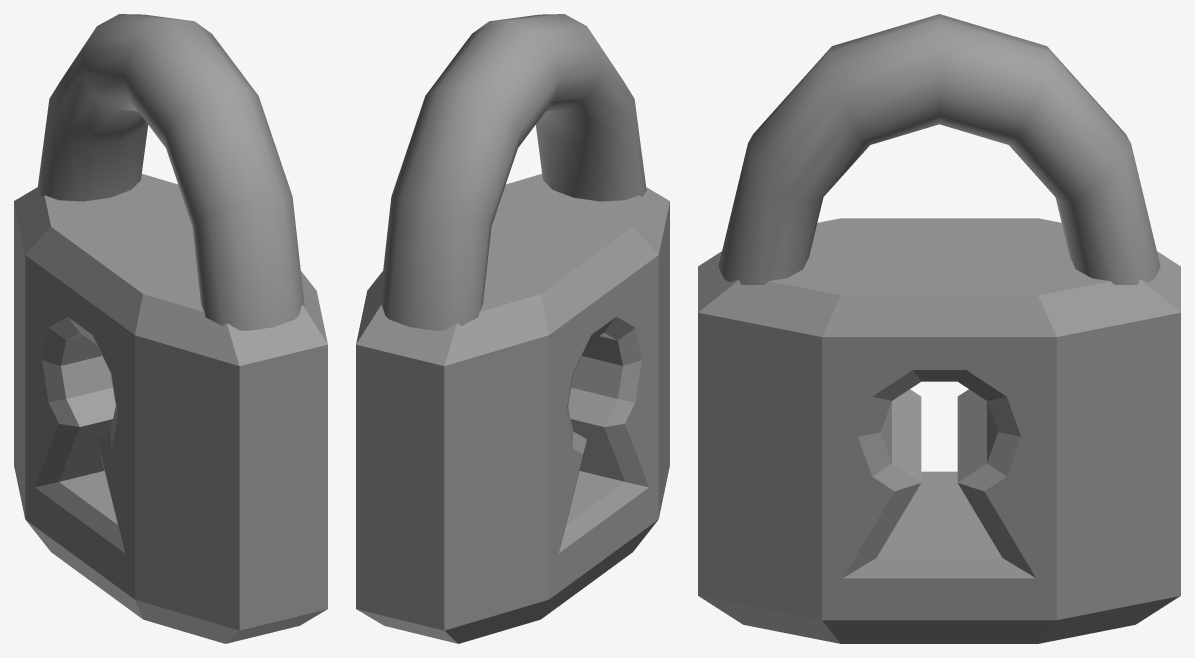
File: Lock.fbx
3 views of the same model, side by side, from view 1: azimuth 30°, elevation 25°; view 2: azimuth 150°, elevation 25°; view 3: azimuth 270°, elevation 25° (orthographic). The views are drawn at different scales.
Visible parts, largest first — view 1: Cube; view 2: Cube; view 3: Cube.
Boxes of the visible parts, x1,y1,x2,y2 form: Cube: (14,14,327,643); Cube: (356,14,669,643); Cube: (698,14,1180,643).
Bounding box in the file's own units: 95.73 × 275 × 206.
1 material, 1 textured.
